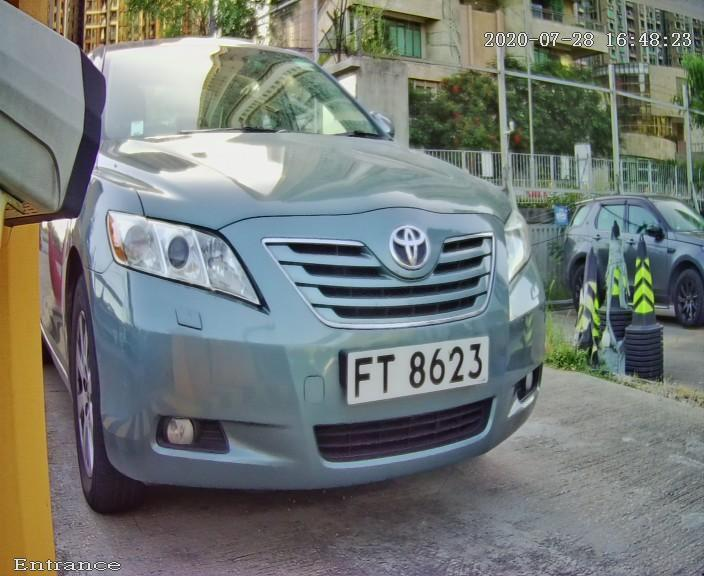privatecar: (19, 11, 635, 530)
